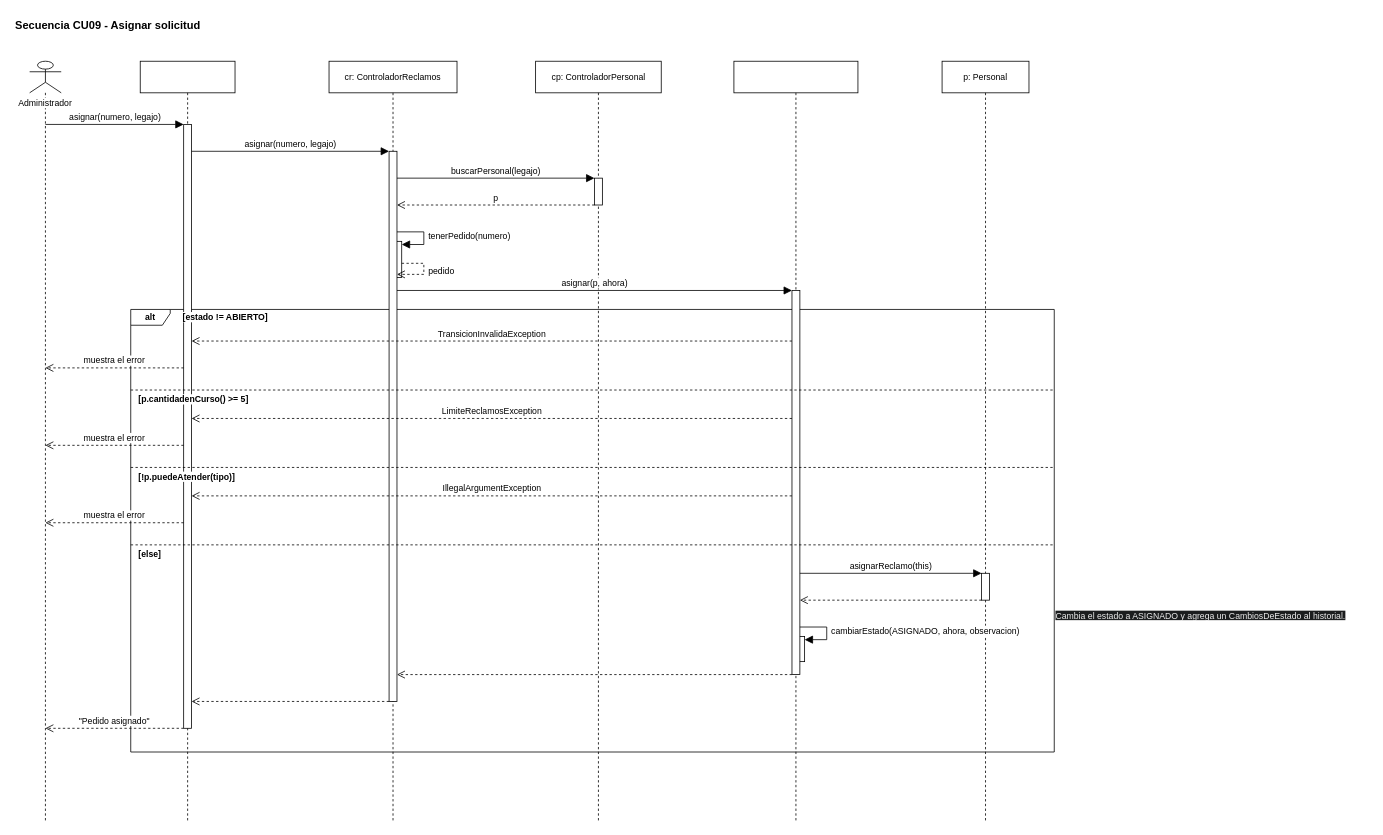
Image size: 1383x835. Some labels were removed from this diagram. Here are the shapes that lost their labels. From the top down, the box of each, then its label:
(139, 60, 235, 822): v: VistaReclamos
(733, 60, 858, 822): pedido: PedidosVecinos
